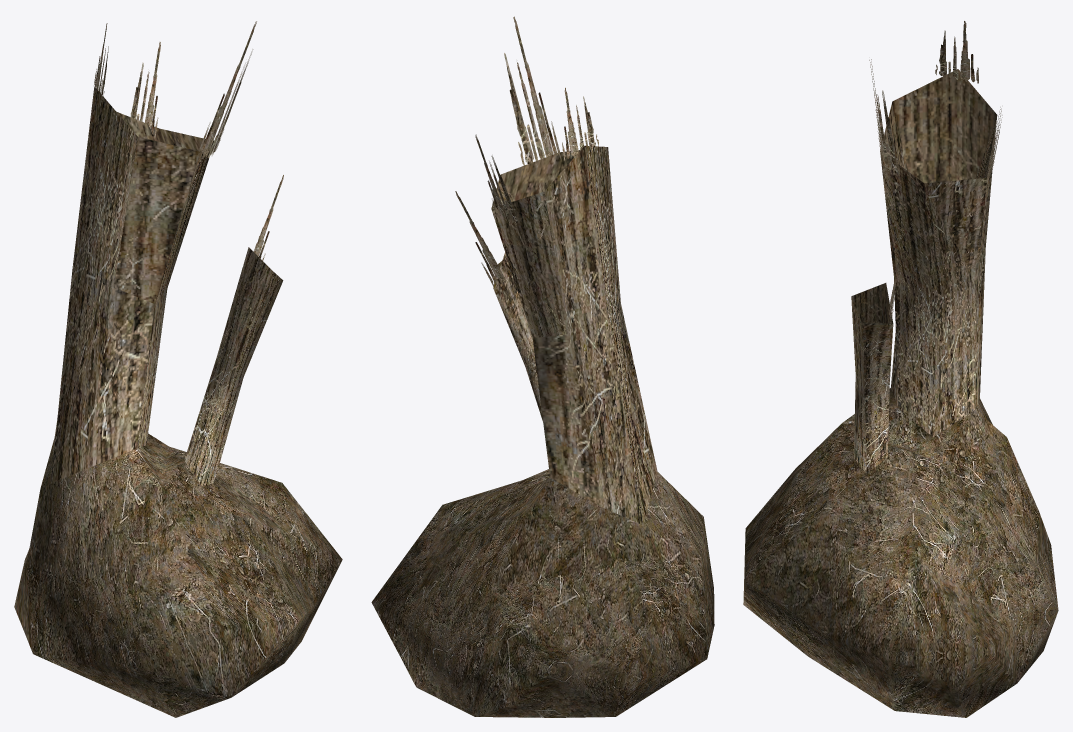
Rendered from poi_all_lair_warren_small_l2.fbx.
The picture shows the model from 3 angles, left to right: view 1: azimuth 30°, elevation 25°; view 2: azimuth 150°, elevation 25°; view 3: azimuth 270°, elevation 25°; orthographic projection. The views are drawn at different scales.
Parts seen in each view (by area): view 1: mesh_node; view 2: mesh_node; view 3: mesh_node.
Part boxes in pixels (x1,y1,x2,y2): mesh_node: [14, 21, 342, 717]; mesh_node: [371, 16, 714, 717]; mesh_node: [743, 21, 1058, 717].
Size of the model in its own units: 1.58 by 3.27 by 1.44.
Materials: 4 (4 with a texture image).
